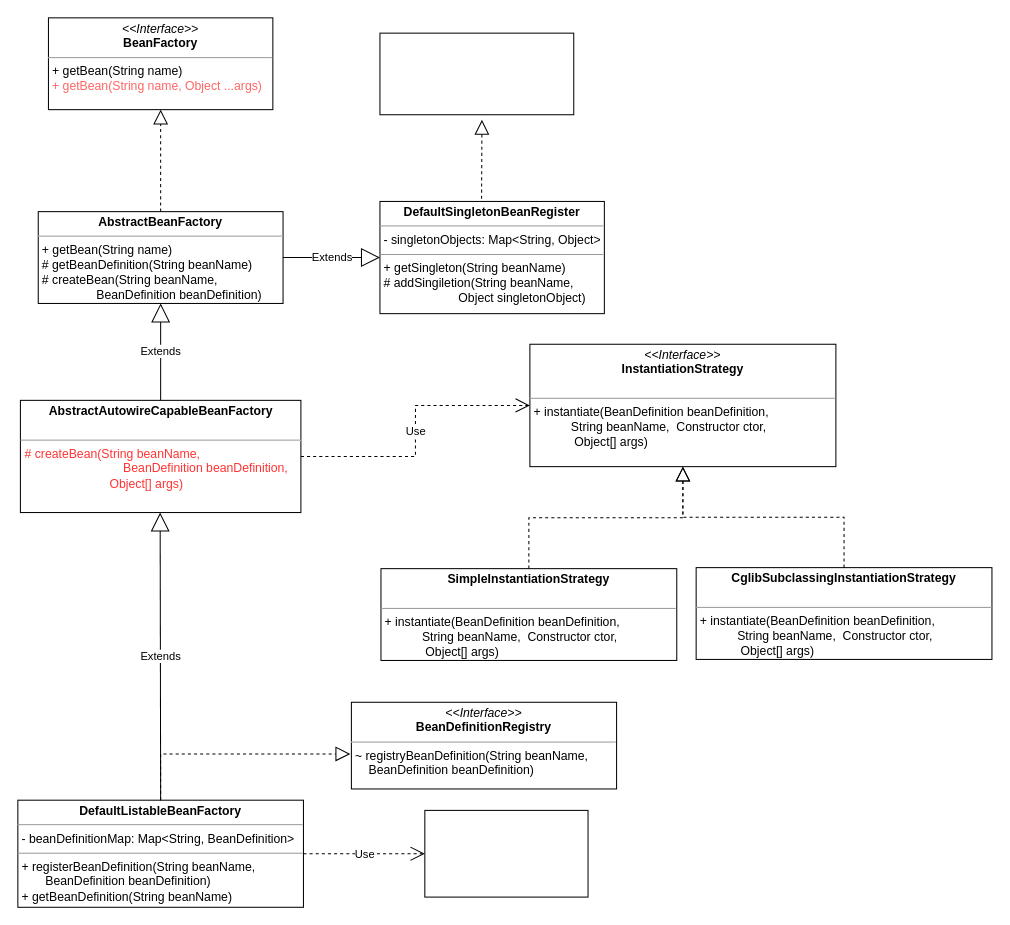
This 1010x925 diagram has some shape labels left out. The shapes that lost their labels are listed below. From the top down, each one's centre as x and y in pixels, then its label:
At (x=476, y=73): "<<Interface>> SingletonBeanRegister + getSingleton(String beanName)".
At (x=506, y=853): "BeanDefinition - beanClass: Class".
